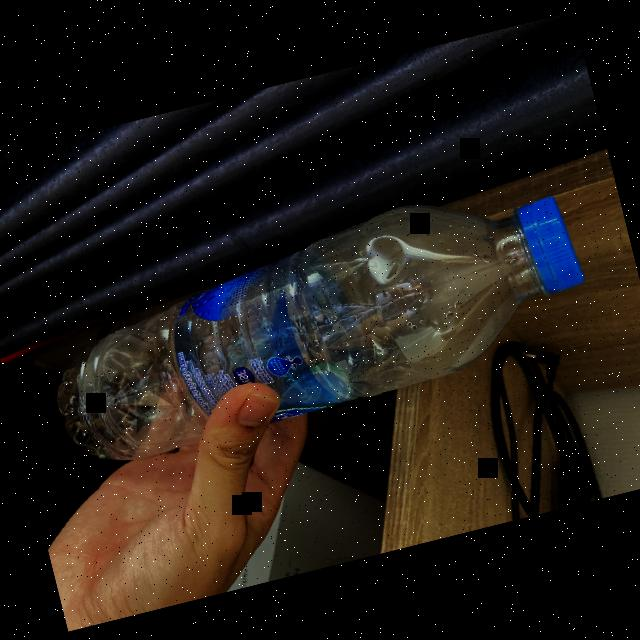plastic_bottle: (18, 158, 606, 478)
plastic_bottle_cap: (510, 188, 589, 300)
